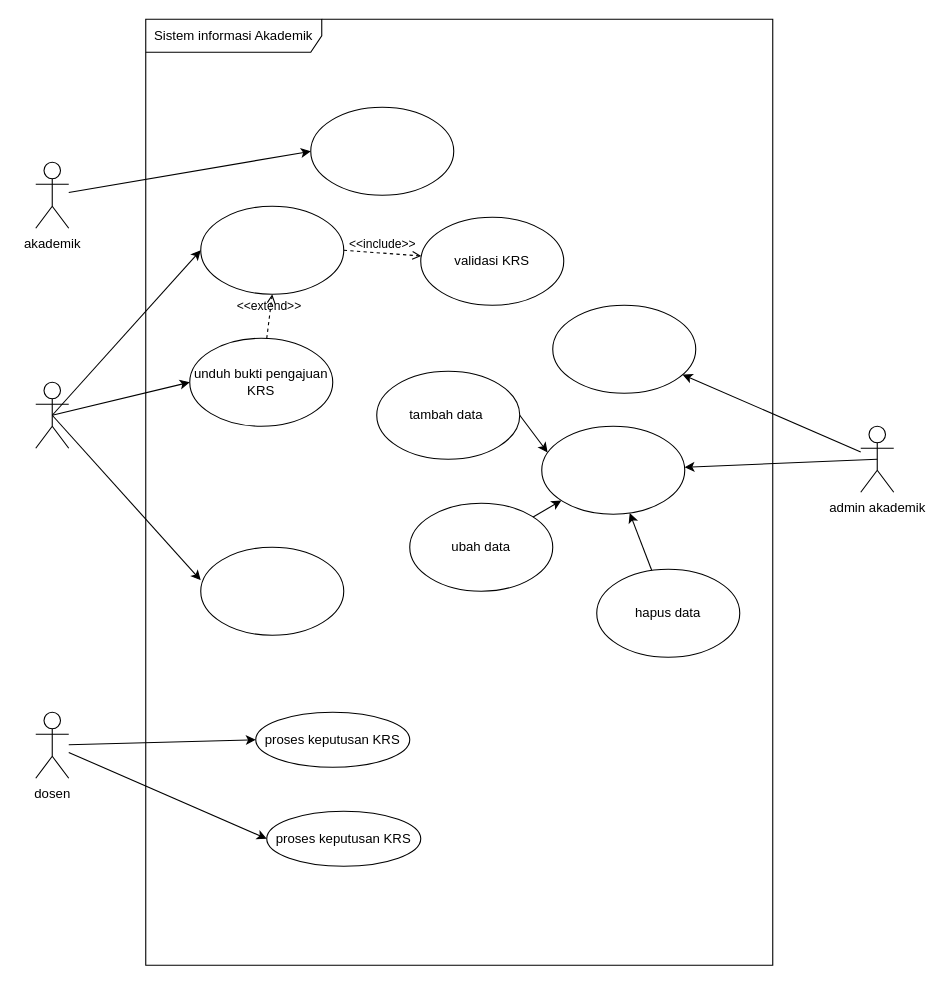
This 944x985 diagram has some shape labels left out. The centre of each missing label's shape, as x and y in pixels:
Ajukan KRS: point (272, 249)
data mahasiswa: point (613, 469)
kelola jadwa kuliah: point (624, 348)
lihat kalender akademik: point (382, 150)
lihat KRS: point (272, 590)
mahasiswa: point (52, 414)
